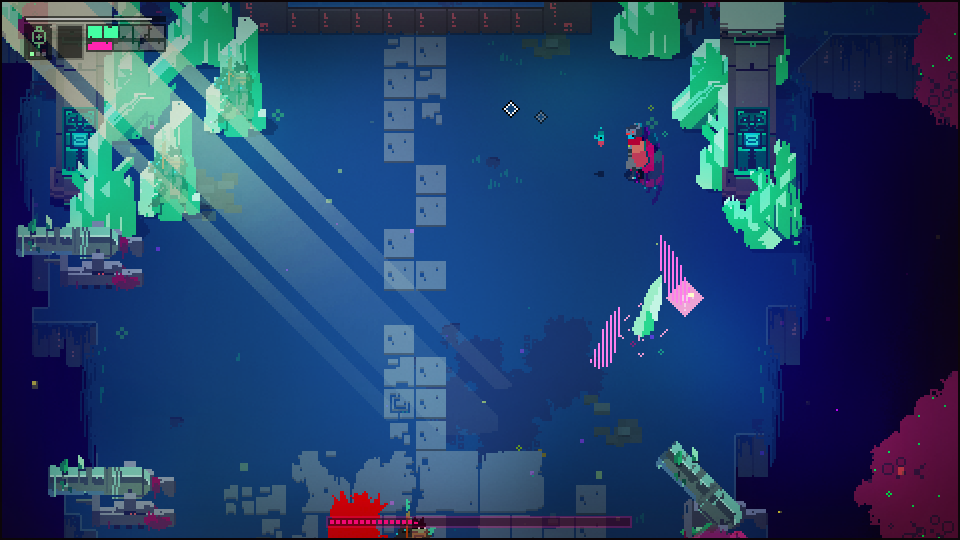hanged_crys: (632, 273, 666, 338), (657, 240, 691, 305), (589, 308, 623, 373)
hanged_man: (324, 489, 392, 536)
player: (622, 123, 651, 178)
